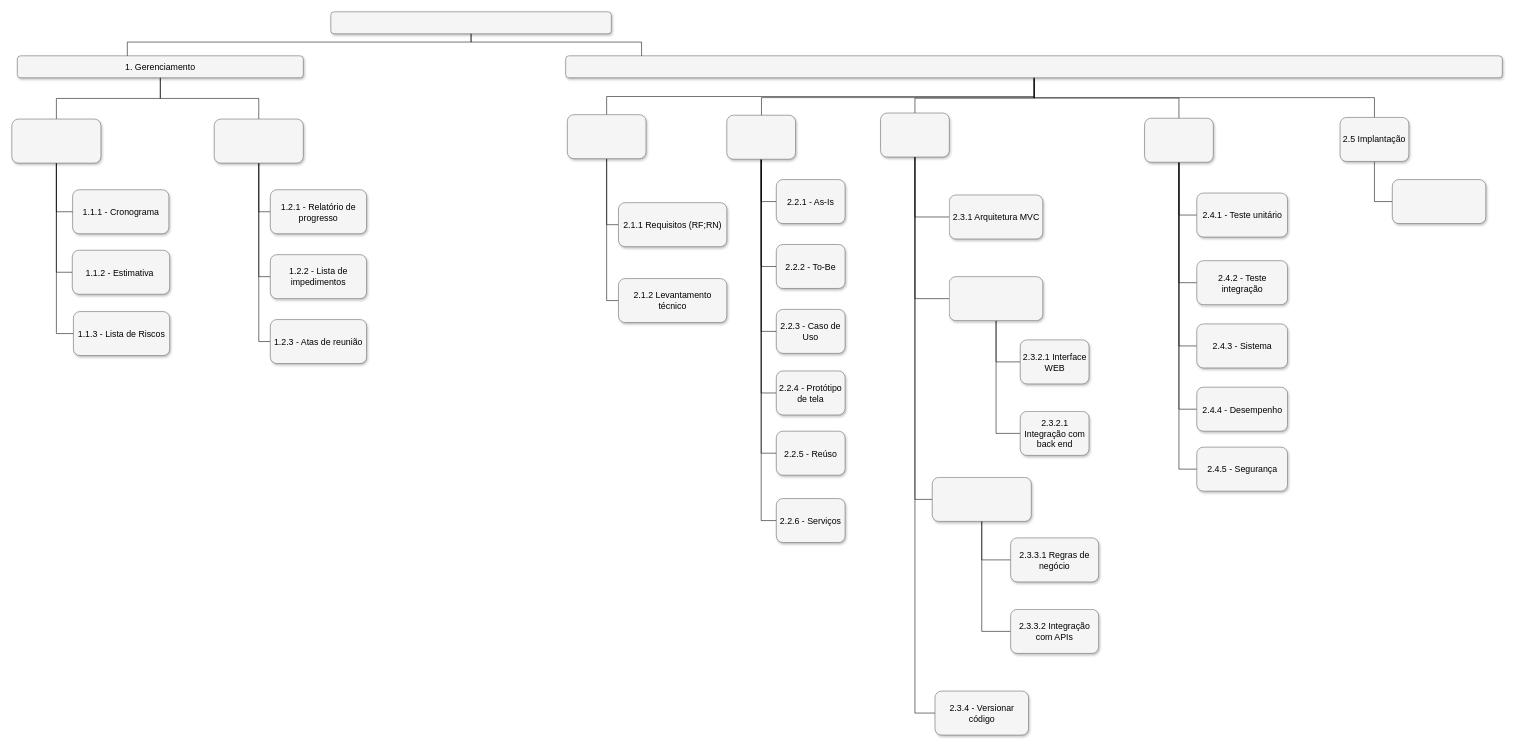
The diagram is 1515 pixels wide and 749 high, and some of its shapes have lost their labels. The centre of each missing label's shape, as x and y in pixels:
"1.1 Planejamento" goes at point (56, 141).
"1.2 Controle e Monitoramento" goes at point (259, 141).
"2 Desenvolvimento" goes at point (1034, 67).
"2.1 Especificação" goes at point (607, 137).
"2.2 Análise" goes at point (761, 137).
"2.3 Construção" goes at point (915, 135).
"2.3.2 Desenvolvimento front-end" goes at point (996, 299).
"2.3.3 Desenvolvimento back-end" goes at point (982, 500).
"2.4 - Teste" goes at point (1179, 141).
"2.5.1 - Deploy código" goes at point (1439, 202).
"Knowledge Central" goes at point (471, 23).
